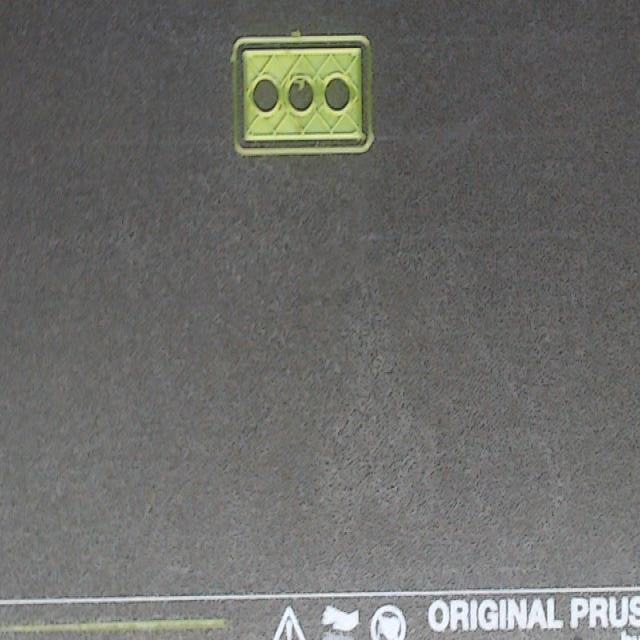mistake: (289, 75, 311, 91), (290, 28, 310, 36)
